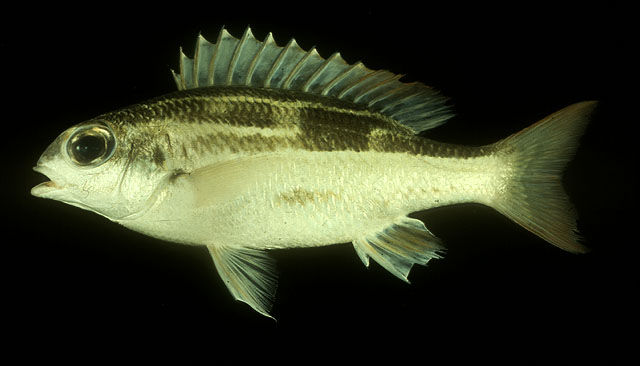fish: (30, 27, 596, 323)
